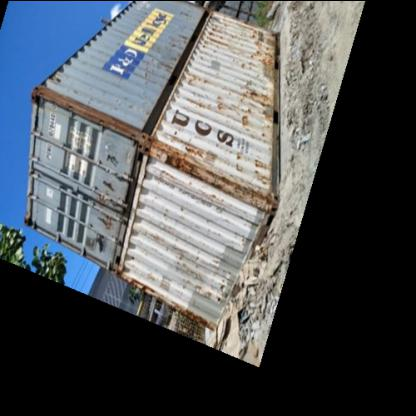Damage: (171, 247, 230, 308), (158, 140, 226, 188), (228, 147, 270, 206), (238, 82, 270, 140), (247, 24, 273, 74), (115, 92, 155, 116), (200, 19, 224, 57), (192, 191, 227, 215), (148, 52, 178, 78), (92, 210, 116, 230), (216, 90, 235, 114), (158, 205, 194, 217), (183, 97, 213, 111), (184, 72, 210, 87), (170, 26, 187, 48), (142, 226, 164, 243), (140, 268, 156, 284), (230, 227, 248, 241), (228, 56, 244, 68), (176, 8, 190, 20)
